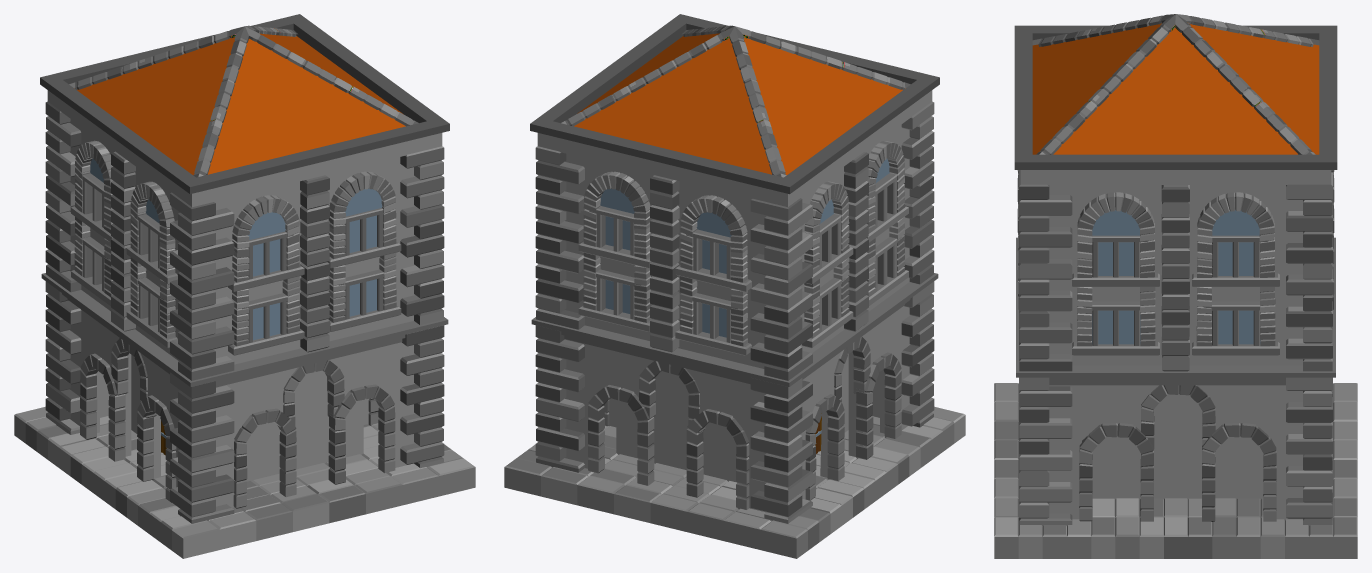
File: castle_town_tower_1.fbx
3 renders of one model, left to right at view 1: azimuth 30°, elevation 25°; view 2: azimuth 150°, elevation 25°; view 3: azimuth 270°, elevation 25°, orthographic. The views are drawn at different scales.
Parts seen in each view (by area): view 1: squarebuilding; view 2: squarebuilding; view 3: squarebuilding.
Boxes of the visible parts, x1=… form: squarebuilding: x1=14, y1=14, x2=475, y2=558; squarebuilding: x1=504, y1=14, x2=965, y2=558; squarebuilding: x1=994, y1=14, x2=1357, y2=558.
Size of the model in its own units: 6000 by 8530 by 6000.
